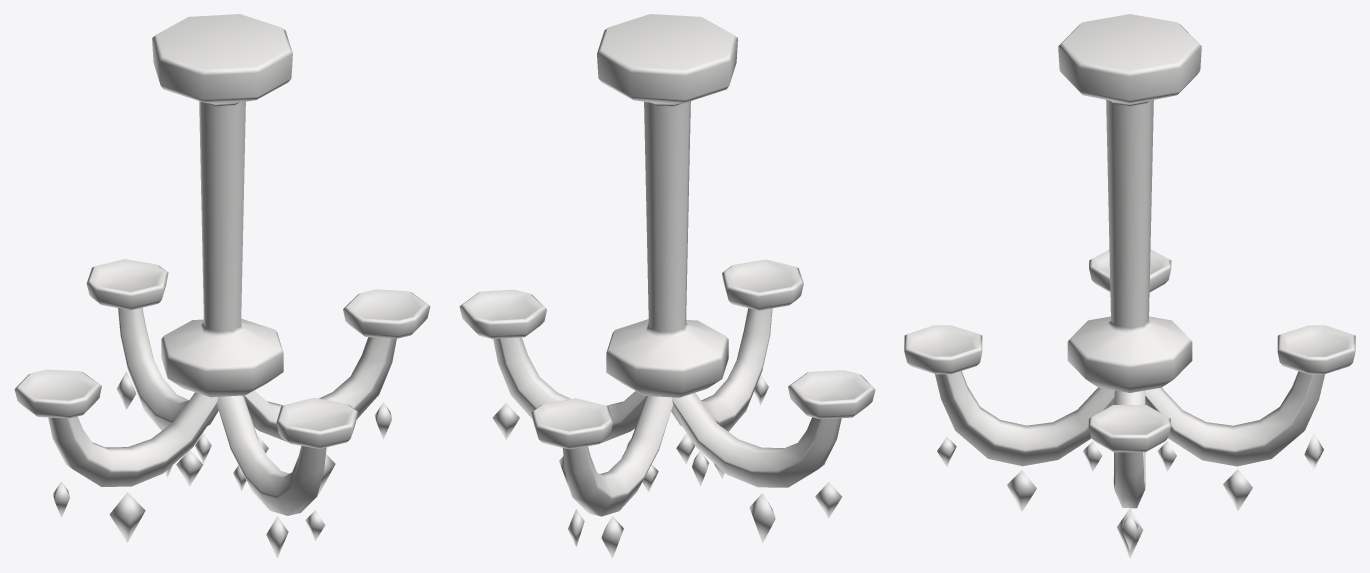
Rendered from P_AP24Chandelier.glb.
The picture shows the model from 3 angles, left to right: view 1: azimuth 30°, elevation 25°; view 2: azimuth 150°, elevation 25°; view 3: azimuth 270°, elevation 25°; orthographic projection.
Visible parts, largest first — view 1: P_AP24Chandelier; view 2: P_AP24Chandelier; view 3: P_AP24Chandelier.
Boxes of the visible parts, <box> form: P_AP24Chandelier: <box>14,14,430,558</box>; P_AP24Chandelier: <box>459,14,875,558</box>; P_AP24Chandelier: <box>904,14,1355,558</box>.
Size of the model in its own units: 1.02 by 1.18 by 1.02.
Materials: 1 (1 with a texture image).
